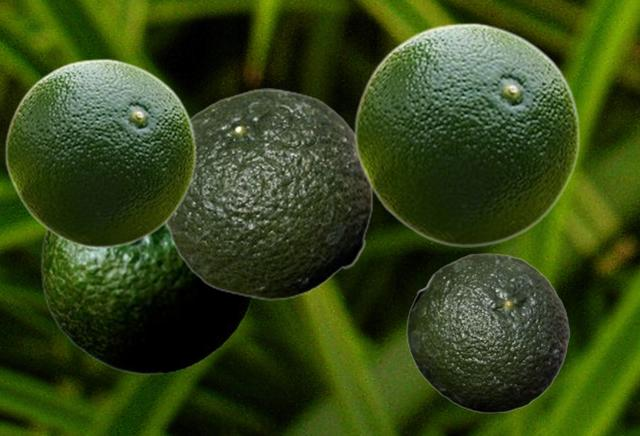calamansi: (353, 22, 580, 246), (163, 88, 372, 299), (4, 58, 196, 247), (40, 225, 254, 374), (406, 253, 569, 412)
